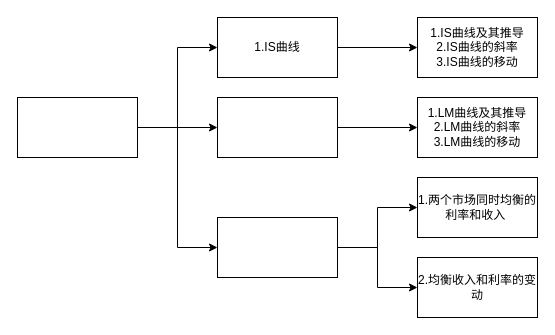
The diagram is 555 pixels wide and 335 high, and some of its shapes have lost their labels. The shapes that lost their labels are listed below. From the top down, each one's centre as x and y in pixels, then its label:
At point 77,127: "产品和货币市场的均衡".
At point 277,127: "2.LM曲线".
At point 277,247: "3.IS-LM分析".
